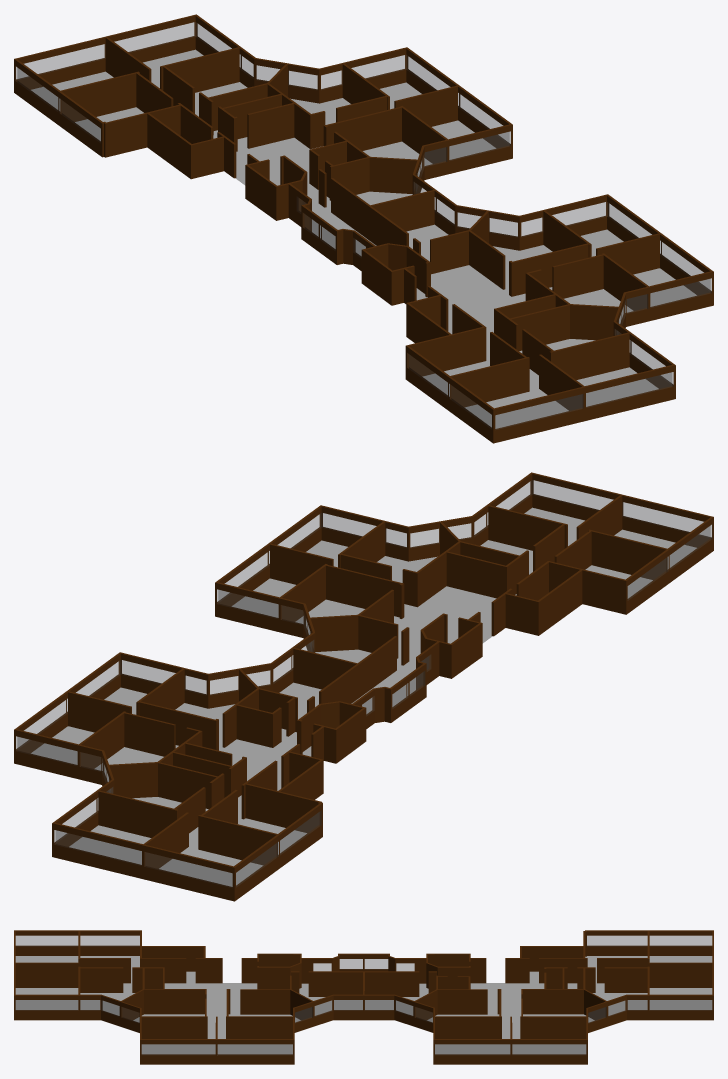
3 views of the same model, one above another, from view 1: azimuth 30°, elevation 25°; view 2: azimuth 150°, elevation 25°; view 3: azimuth 270°, elevation 25° (orthographic). The views are drawn at different scales.
Parts seen in each view (by area): view 1: Plane.023, Plane.008; view 2: Plane.023, Plane.008; view 3: Plane.023, Plane.008.
Part boxes in pixels (bbox=[...]): Plane.023: bbox=[14, 14, 713, 443]; Plane.008: bbox=[31, 49, 696, 428]; Plane.023: bbox=[14, 472, 713, 901]; Plane.008: bbox=[31, 507, 696, 886]; Plane.023: bbox=[14, 930, 713, 1064]; Plane.008: bbox=[15, 956, 712, 1054].
Size of the model in its own units: 28.5 by 3 by 77.08.
